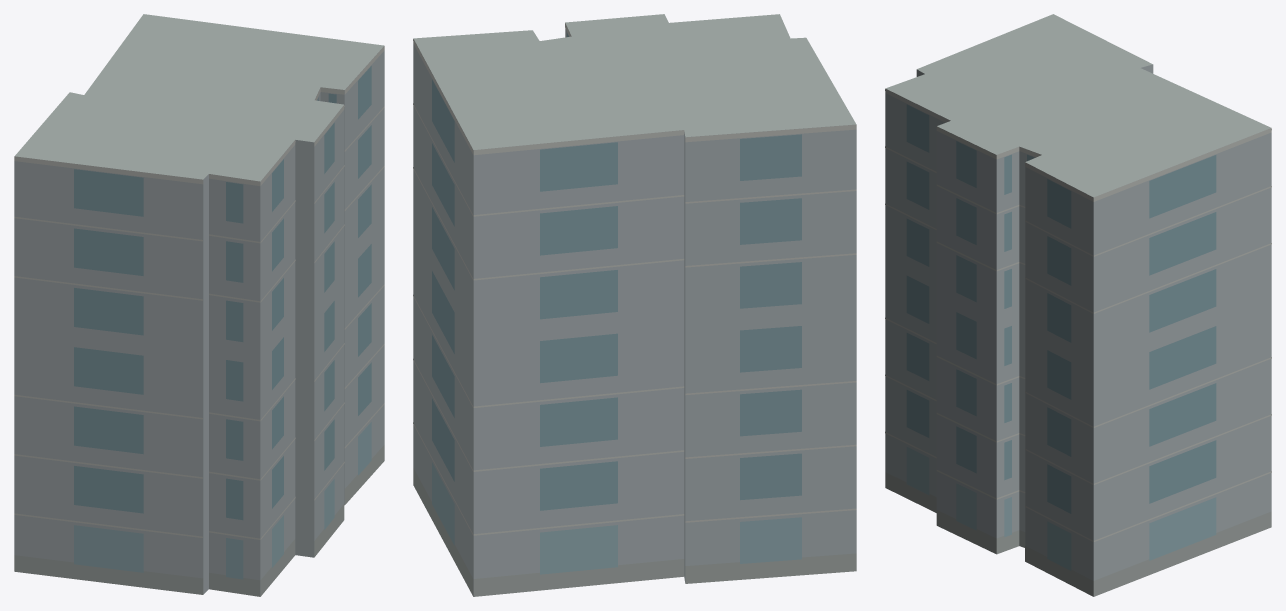
Rendered from survey-upis-32919516.glb.
The picture shows the model from 3 angles, left to right: view 1: azimuth 30°, elevation 25°; view 2: azimuth 150°, elevation 25°; view 3: azimuth 270°, elevation 25°; orthographic projection. The views are drawn at different scales.
Parts seen in each view (by area): view 1: survey-upis-32919516.tmp; view 2: survey-upis-32919516.tmp; view 3: survey-upis-32919516.tmp.
Part boxes in pixels (left/top/right/bottom): survey-upis-32919516.tmp: left=14, top=14, right=384, bottom=596; survey-upis-32919516.tmp: left=413, top=14, right=856, bottom=596; survey-upis-32919516.tmp: left=885, top=14, right=1271, bottom=596.
Size of the model in its own units: 21.05 by 21.35 by 18.73.
